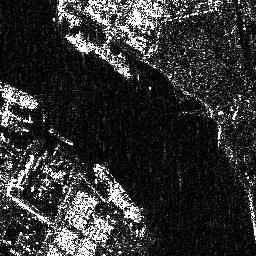ship: (92, 161, 142, 223), (96, 48, 135, 80), (1, 80, 40, 108), (62, 33, 91, 55)
